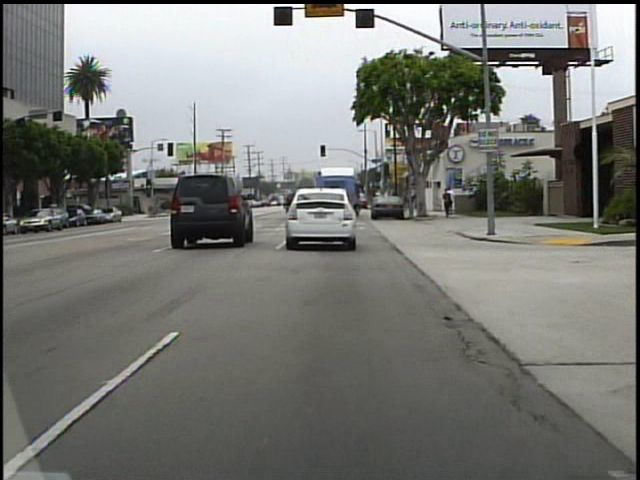person: (440, 186, 453, 220), (449, 185, 458, 215)
